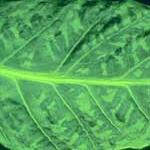Tomato leaf mosaic virus: (3, 2, 148, 147)
